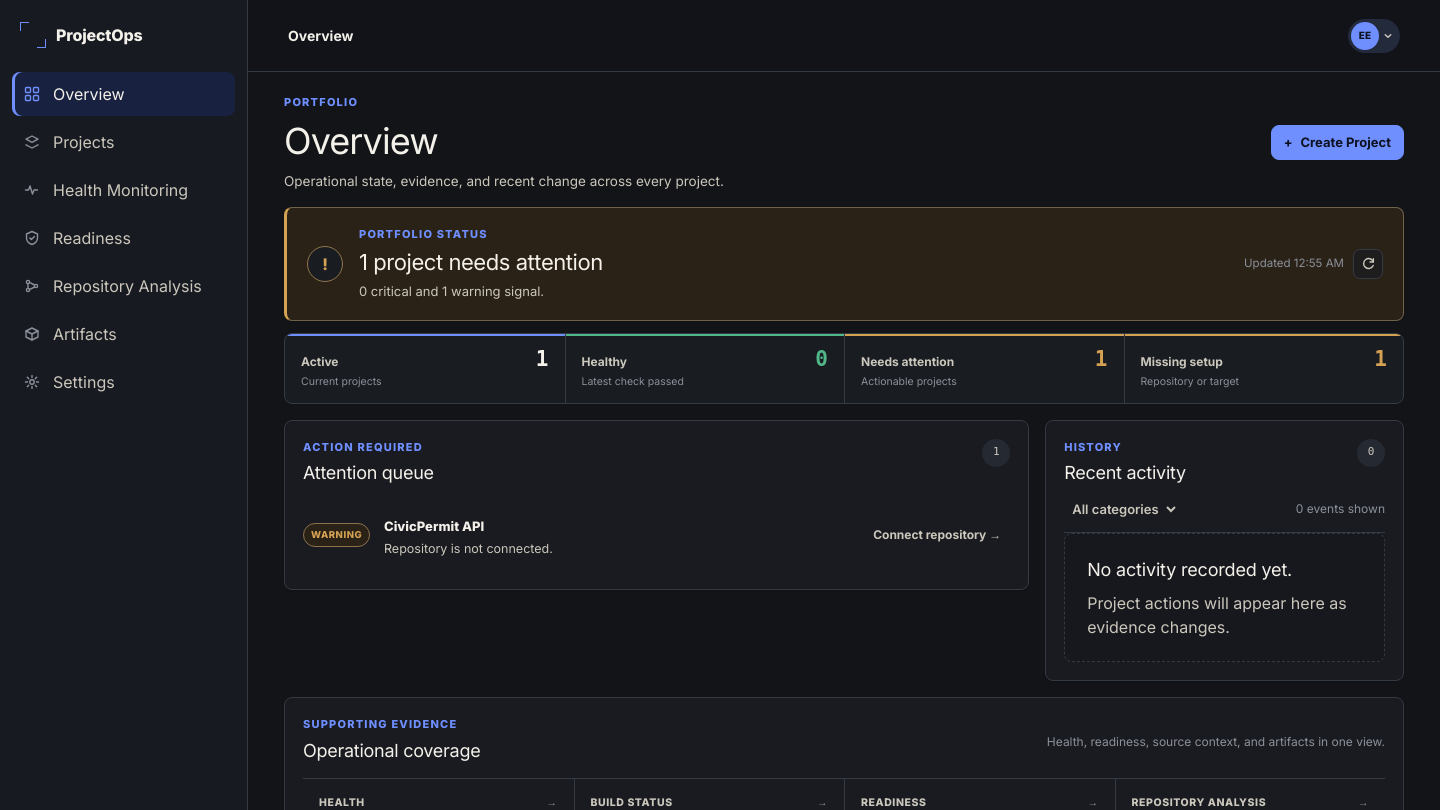
Scenario: auth routes › lets an authenticated user access overview and see their account
Check: the heading "Overview" is shown, box [284,118,438,162]
What coordinates should you click on to do the following:
click the button with aria-label "Account menu"
I would click on:
 (1374, 36)
Its box is [1348,18,1400,52].
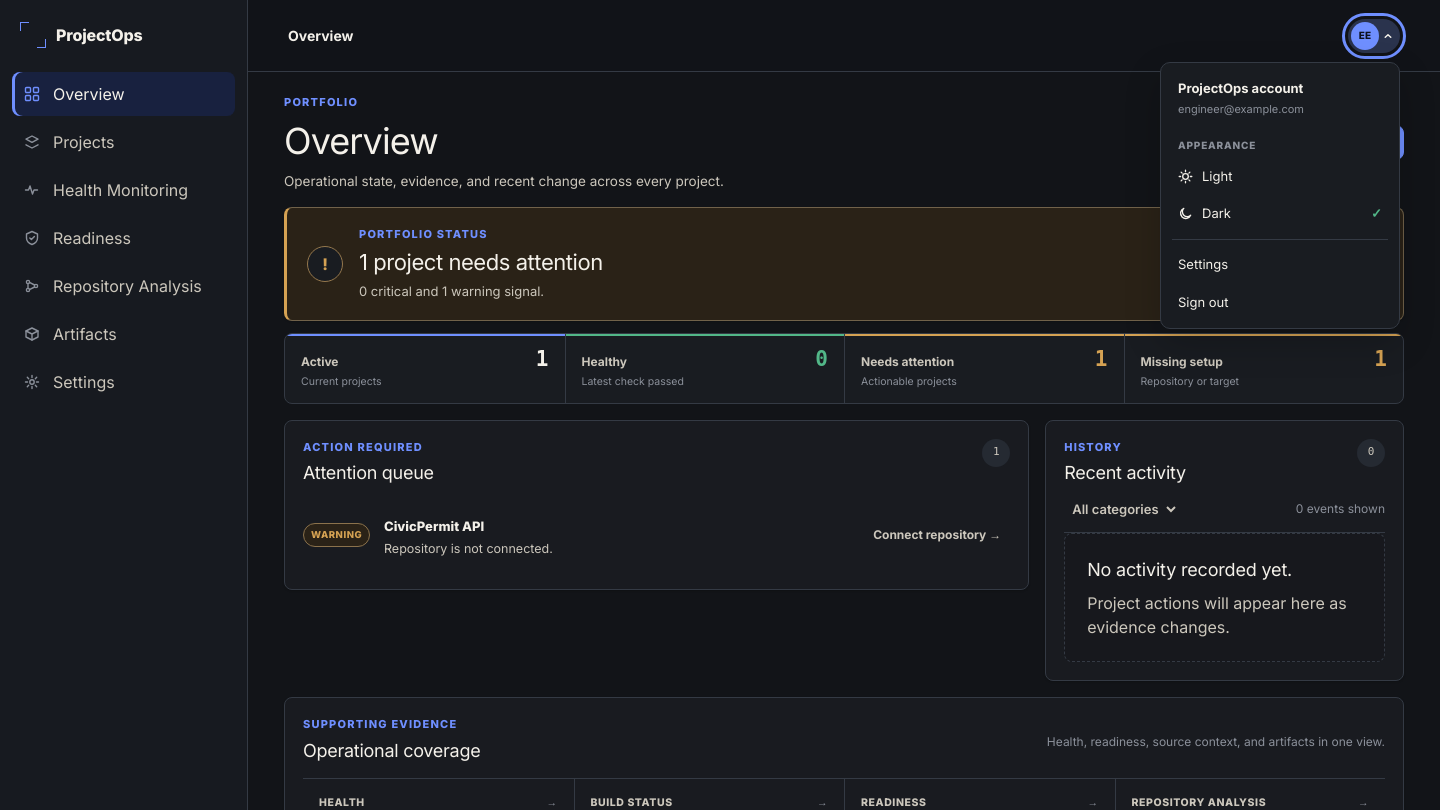
Check: the text "engineer@example.com" is shown, box [1178,102,1304,116]
